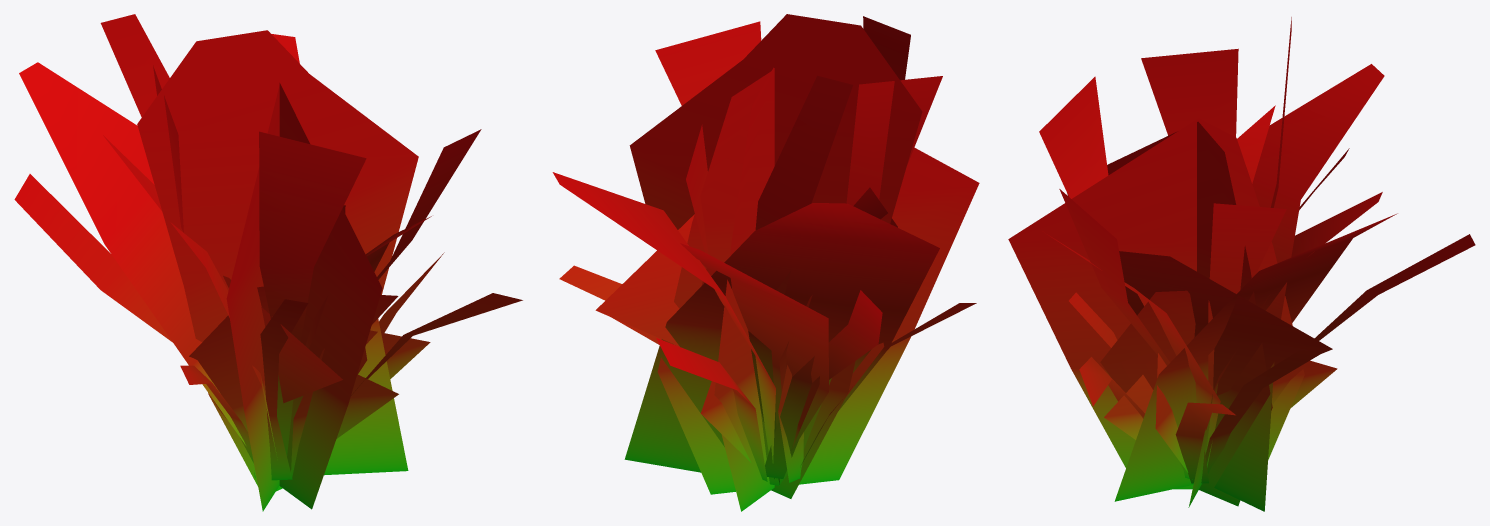
File: tlijciuia_Var3_LOD0.fbx
3 views of the same model, side by side, from view 1: azimuth 30°, elevation 25°; view 2: azimuth 150°, elevation 25°; view 3: azimuth 270°, elevation 25° (orthographic). The views are drawn at different scales.
Visible parts, largest first — view 1: _e19a_Var3_LOD0; view 2: _e19a_Var3_LOD0; view 3: _e19a_Var3_LOD0.
Boxes of the visible parts, x1=… form: _e19a_Var3_LOD0: x1=14, y1=14, x2=522, y2=511; _e19a_Var3_LOD0: x1=552, y1=14, x2=979, y2=511; _e19a_Var3_LOD0: x1=1008, y1=17, x2=1475, y2=511.
Bounding box in the file's own units: 11.58 × 14.05 × 13.74.
